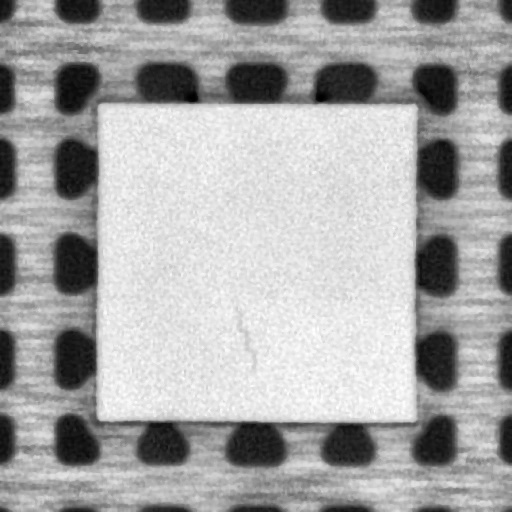DIE_CRACK: (228, 301, 258, 370)
